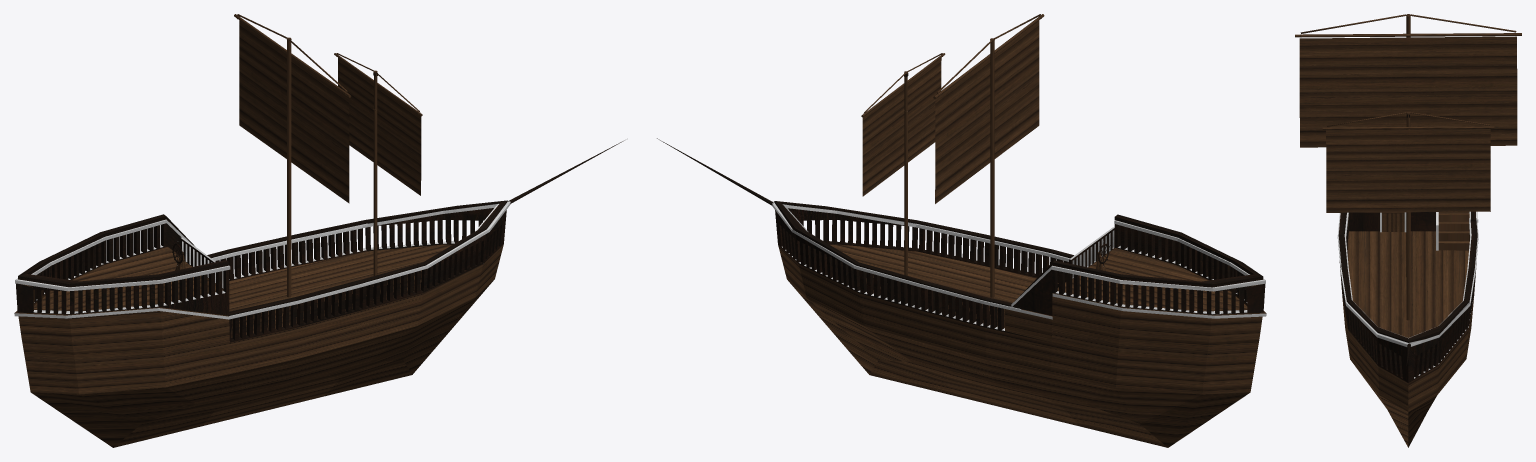
Rendered from galley.fbx.
3 views of the same model, side by side, from view 1: azimuth 30°, elevation 25°; view 2: azimuth 150°, elevation 25°; view 3: azimuth 270°, elevation 25° (orthographic).
Parts seen in each view (by area): view 1: Cylinder.001, Torus.002, Torus; view 2: Cylinder.001, Torus.002, Torus; view 3: Cylinder.001, Torus.002, Torus.
Part boxes in pixels (x1,y1,x2,y2): Cylinder.001: [14, 37, 624, 447]; Torus.002: [234, 14, 351, 203]; Torus: [334, 53, 422, 195]; Cylinder.001: [657, 38, 1266, 447]; Torus.002: [933, 14, 1044, 203]; Torus: [861, 53, 945, 196]; Cylinder.001: [1337, 14, 1478, 447]; Torus.002: [1295, 14, 1521, 147]; Torus: [1322, 112, 1494, 212].
Bounding box in the file's own units: 15806 × 9045 × 4994.
Materials: 5 (4 with a texture image).
